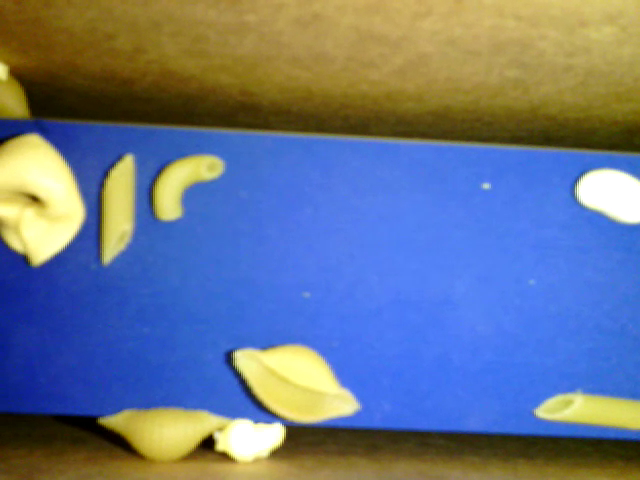elbow: (149, 154, 223, 223)
penne: (100, 148, 138, 269), (531, 397, 638, 434)
shell: (228, 337, 365, 424), (99, 409, 230, 463)
tortellini: (3, 131, 85, 269)
